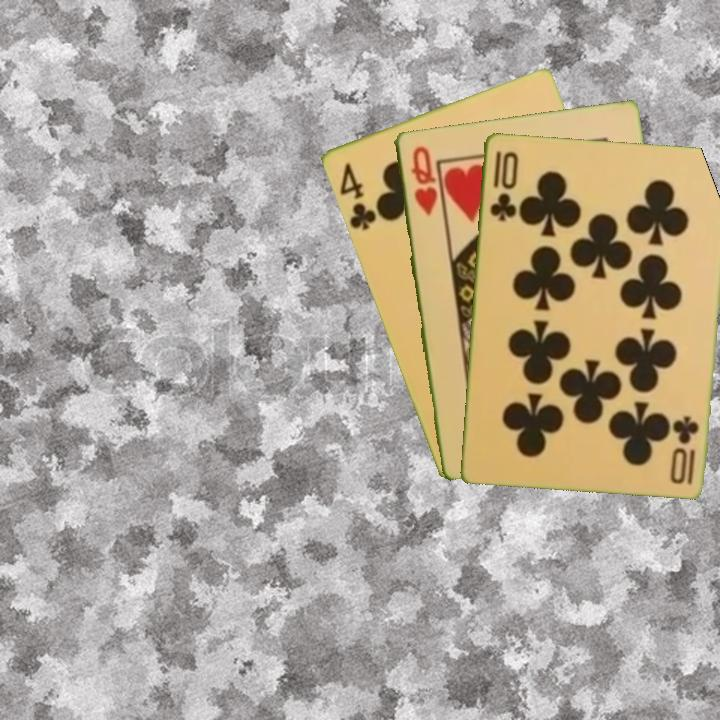10c: (486, 147, 521, 224), (672, 412, 701, 487)
4c: (335, 159, 383, 233)
Qh: (407, 142, 440, 219)
